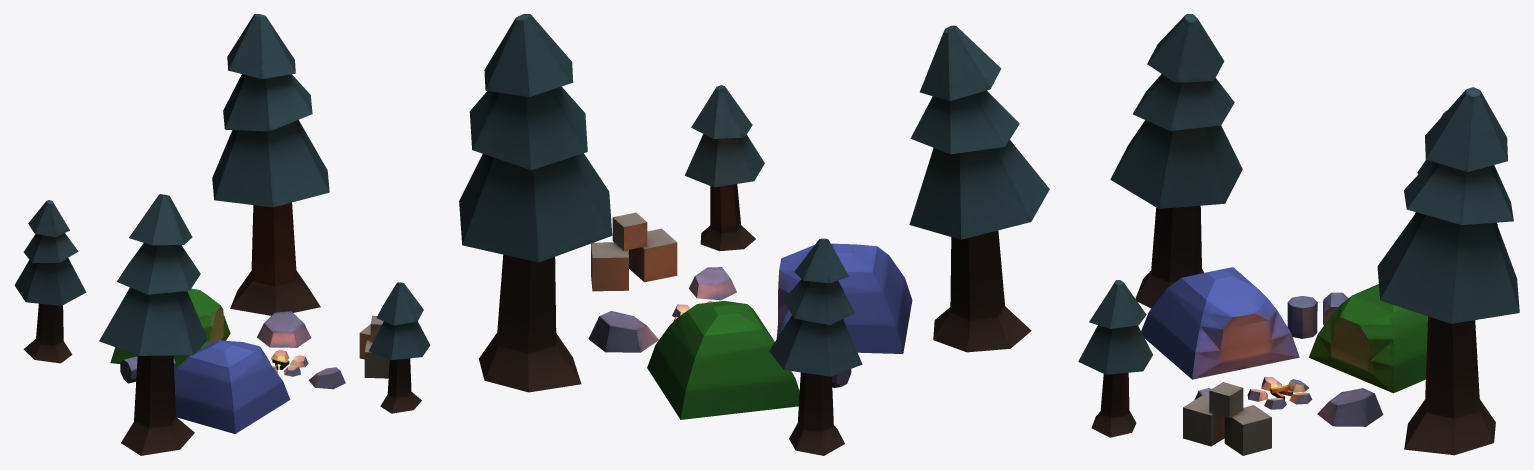
File: waste_1_lod0.fbx
3 views of the same model, side by side, from view 1: azimuth 30°, elevation 25°; view 2: azimuth 150°, elevation 25°; view 3: azimuth 270°, elevation 25° (orthographic). The views are drawn at different scales.
Parts seen in each view (by area): view 1: waste_1_lod0; view 2: waste_1_lod0; view 3: waste_1_lod0.
Part boxes in pixels (x1,y1,x2,y2): waste_1_lod0: (14, 14, 430, 455); waste_1_lod0: (459, 14, 1049, 455); waste_1_lod0: (1078, 14, 1519, 455).
Bounding box in the file's own units: 0.0571 × 0.0458 × 0.0538.
